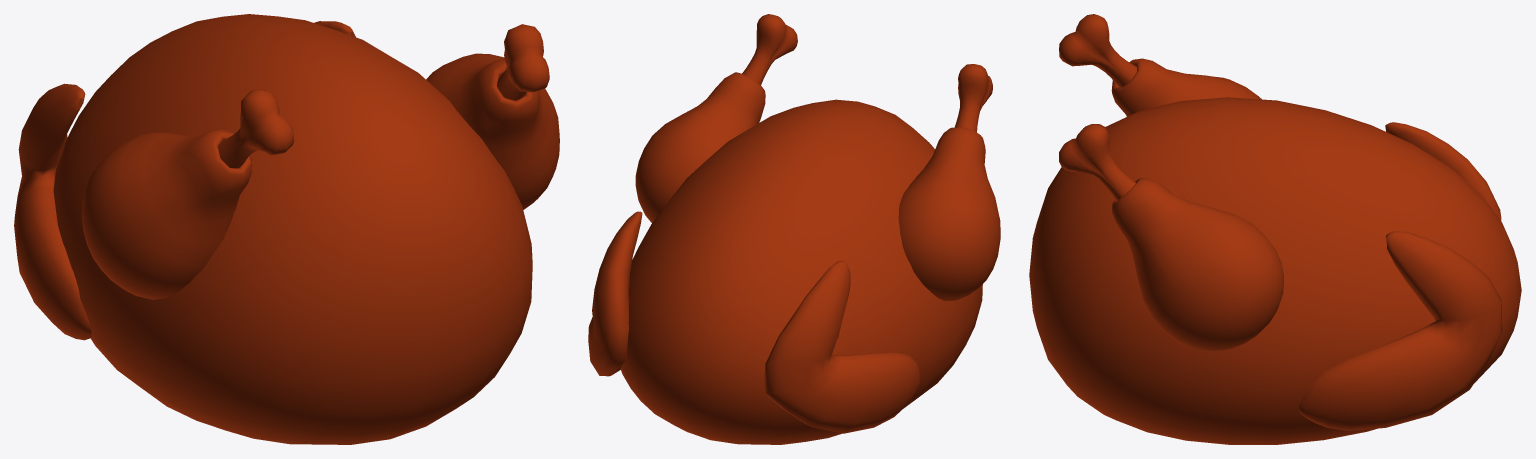
The model's file is FriedFullChicken01.fbx.
3 renders of one model, left to right at view 1: azimuth 30°, elevation 25°; view 2: azimuth 150°, elevation 25°; view 3: azimuth 270°, elevation 25°, orthographic. The views are drawn at different scales.
Parts seen in each view (by area): view 1: ChickenBody, ChickenLeg003, ChickenWing, ChickenLegBone002; view 2: ChickenBody, ChickenLeg003, ChickenWing, ChickenLegBone002; view 3: ChickenBody, ChickenLeg003, ChickenWing, ChickenLegBone002.
Boxes of the visible parts, box(x1,y1,x2,y2) form: ChickenBody: box(53, 14, 532, 444); ChickenLeg003: box(82, 53, 559, 299); ChickenWing: box(14, 21, 355, 340); ChickenLegBone002: box(218, 24, 549, 168); ChickenBody: box(620, 99, 982, 444); ChickenLeg003: box(635, 72, 1000, 300); ChickenWing: box(588, 211, 920, 433); ChickenLegBone002: box(742, 14, 992, 132); ChickenBody: box(1029, 97, 1521, 444); ChickenLeg003: box(1111, 58, 1283, 351); ChickenWing: box(1298, 122, 1502, 430); ChickenLegBone002: box(1059, 14, 1136, 200).
Bounding box in the file's own units: 42 × 36.05 × 46.66.
